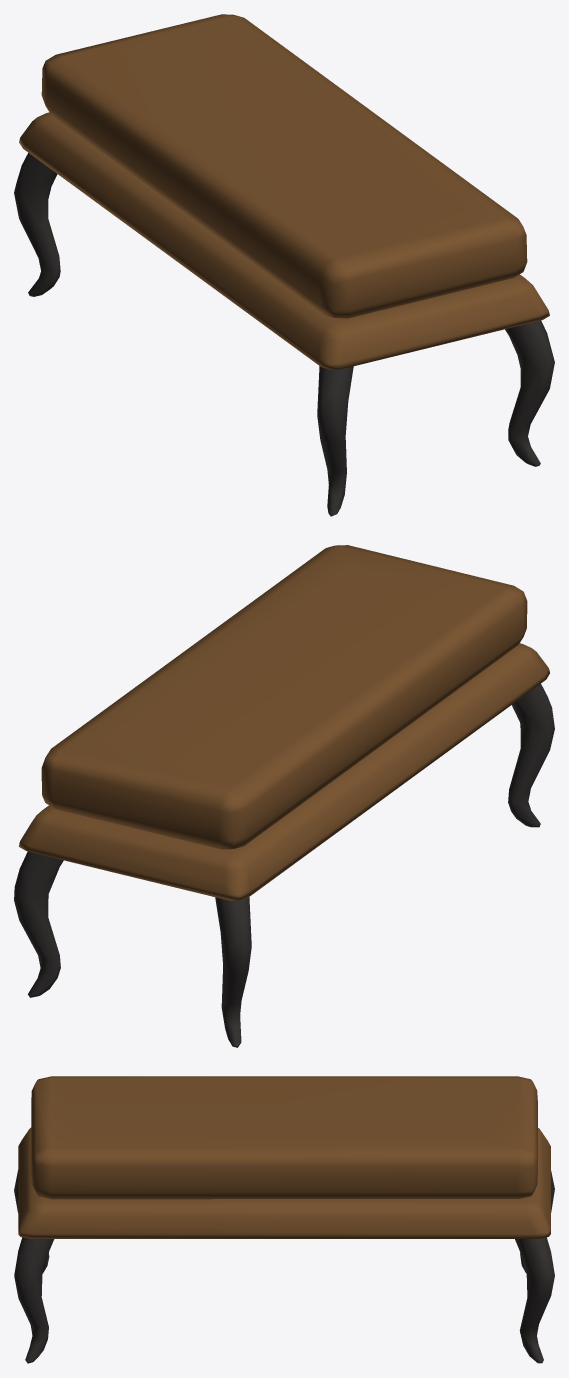
Rendered from footstool_01_brown.fbx.
The picture shows the model from 3 angles, top to bottom: view 1: azimuth 30°, elevation 25°; view 2: azimuth 150°, elevation 25°; view 3: azimuth 270°, elevation 25°; orthographic projection. The views are drawn at different scales.
Visible parts, largest first — view 1: footstool_01_brown; view 2: footstool_01_brown; view 3: footstool_01_brown.
Boxes of the visible parts, box(x1,y1,x2,y2) form: footstool_01_brown: box(14, 14, 554, 516); footstool_01_brown: box(14, 545, 554, 1047); footstool_01_brown: box(14, 1076, 554, 1363).
Size of the model in its own units: 46.53 by 46.52 by 109.
2 materials, 2 textured.
